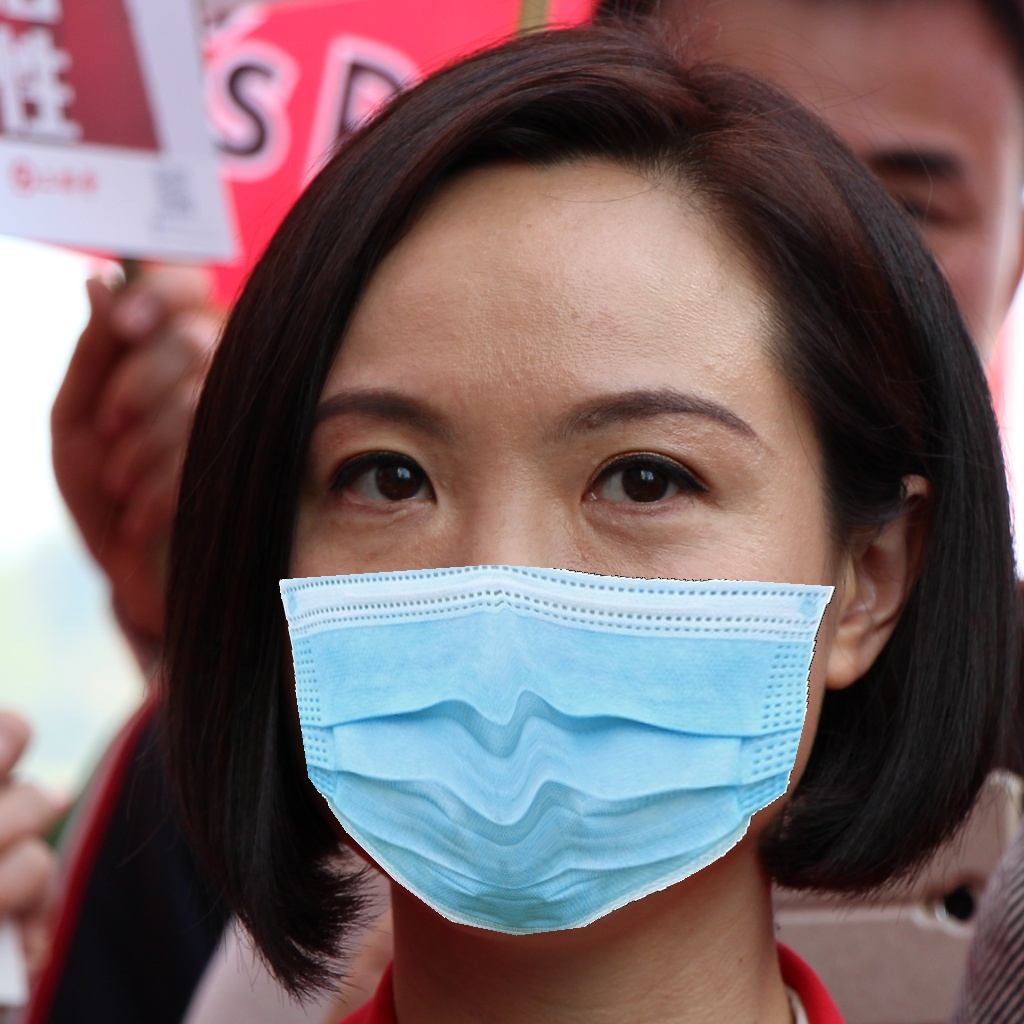with_mask: (284, 388, 817, 951)
